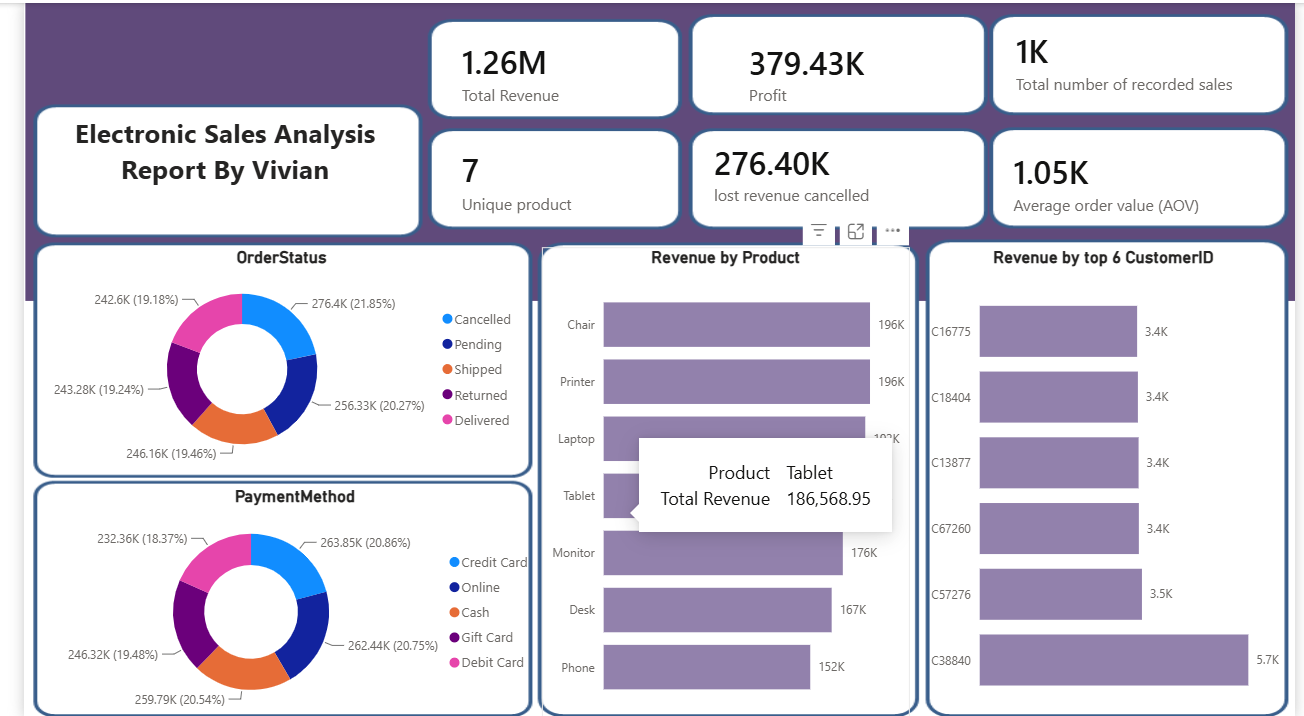

Layout of this report page (visuals, bound fields, positions):
{"tool":"powerbi","page":{"name":"Page 3","canvas":[1280,720],"ordinal":2},"visuals":[{"type":"cardVisual","fields":{"Data":["Table1.Total number of recorded sales"]},"box":[1650,20,323.2,141.7],"z":0},{"type":"cardVisual","fields":{"Data":["Table1.Average order value (AOV)"]},"box":[1670,195.5,321.2,129.7],"z":1000},{"type":"cardVisual","fields":{"Data":["Table1.Total Revenue"]},"box":[391.9,10.8,306,118],"z":2000},{"type":"cardVisual","fields":{"Data":["Table1.Unique product"]},"box":[391.9,106.8,289.2,146],"z":3000},{"type":"cardVisual","fields":{"Data":["Table1.lost revenue cancelled"]},"box":[646,106.8,310.8,129.7],"z":4000},{"type":"cardVisual","fields":{"Data":["Table1.Profit"]},"box":[681.1,0,275.7,141.9],"z":5000},{"type":"cardVisual","fields":{"Data":["Table1.Total number of recorded sales"]},"box":[950,0,329.7,117.6],"z":6000},{"type":"cardVisual","fields":{"Data":["Table1.Average order value (AOV)"]},"box":[947.3,106.8,309.5,148.7],"z":7000},{"type":"barChart","title":"Revenue by Product","fields":{"Category":["Table1.Product"],"Y":["Table1.Total Revenue"]},"box":[521.6,246,370.3,474.3],"z":8000},{"type":"barChart","title":"Revenue by top 6 CustomerID","fields":{"Category":["Table1.CustomerID"],"Y":["Table1.Total Revenue"]},"box":[905.4,246,363.5,474.3],"z":9000},{"type":"donutChart","title":"OrderStatus","fields":{"Category":["Table1.OrderStatus"],"Y":["Table1.Total Revenue"]},"box":[13.5,246,491.9,225.7],"z":10000},{"type":"donutChart","title":"PaymentMethod","fields":{"Category":["Table1.PaymentMethod"],"Y":["Table1.Total Revenue"]},"box":[24.3,486.5,497.3,233.8],"z":11000},{"type":"textbox","box":[13.5,106.8,378.4,129.7],"z":12000}]}

Visuals, with their boxes in screenshot pixels (x1, y1, x2, y2), scaled from the page's 1280x720 canvas onto the 1304x716 screenshot:
cardVisual - Table1.Total Revenue: BBox(399, 11, 711, 128)
cardVisual - Table1.Unique product: BBox(399, 106, 694, 251)
cardVisual - Table1.lost revenue cancelled: BBox(658, 106, 975, 235)
cardVisual - Table1.Profit: BBox(694, 0, 975, 141)
cardVisual - Table1.Total number of recorded sales: BBox(968, 0, 1303, 117)
cardVisual - Table1.Average order value (AOV): BBox(965, 106, 1280, 254)
"Revenue by Product" barChart: BBox(531, 245, 909, 715)
"Revenue by top 6 CustomerID" barChart: BBox(922, 245, 1293, 715)
"OrderStatus" donutChart: BBox(14, 245, 515, 469)
"PaymentMethod" donutChart: BBox(25, 484, 531, 715)
textbox: BBox(14, 106, 399, 235)
